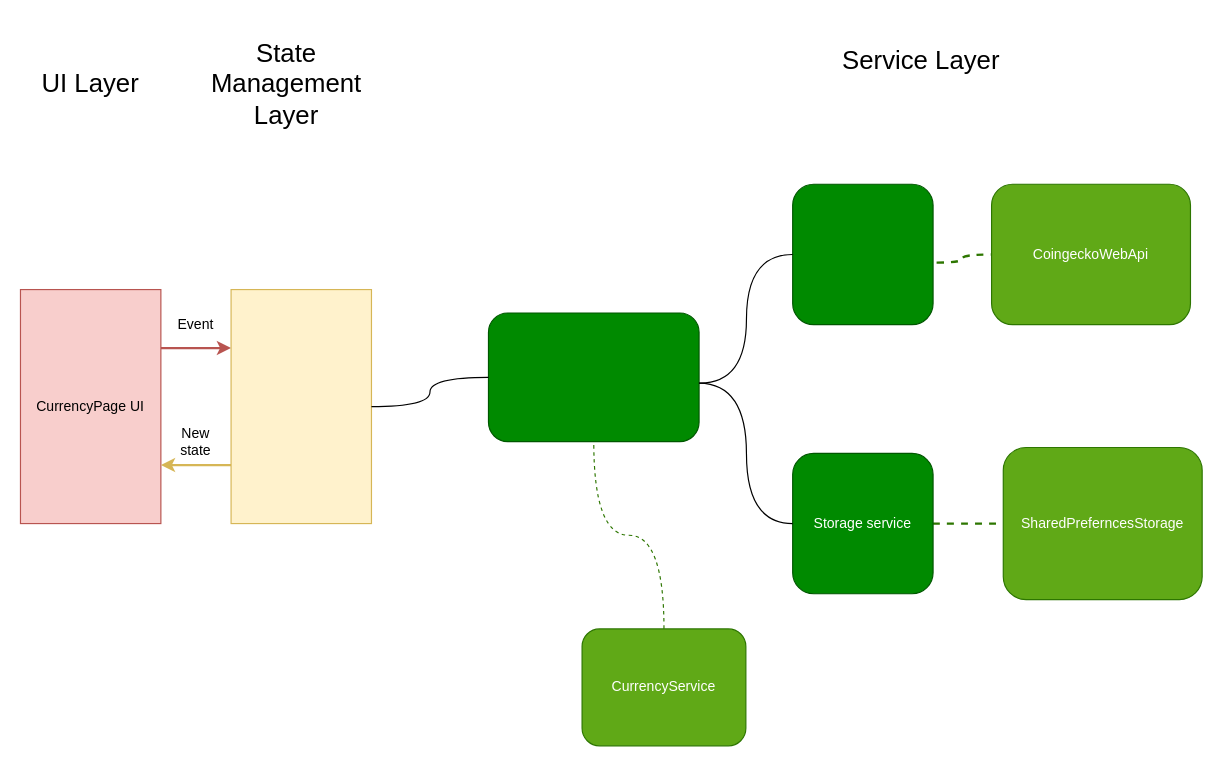
The diagram is 1223 pixels wide and 766 high, and some of its shapes have lost their labels. Each missing label, with the centre of its shape:
"CurrencyServiceImplementation" goes at pixel 593 377.
"CurrencyViewModel" goes at pixel 300 406.
"WebApi Service" goes at pixel 862 254.
